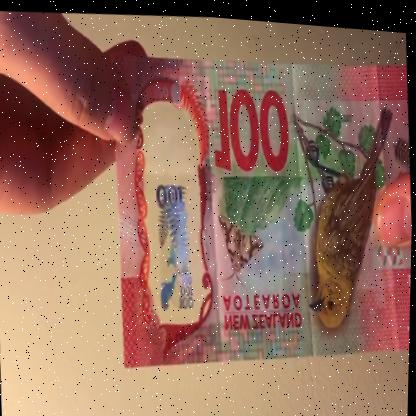100B: (144, 134, 203, 321)
